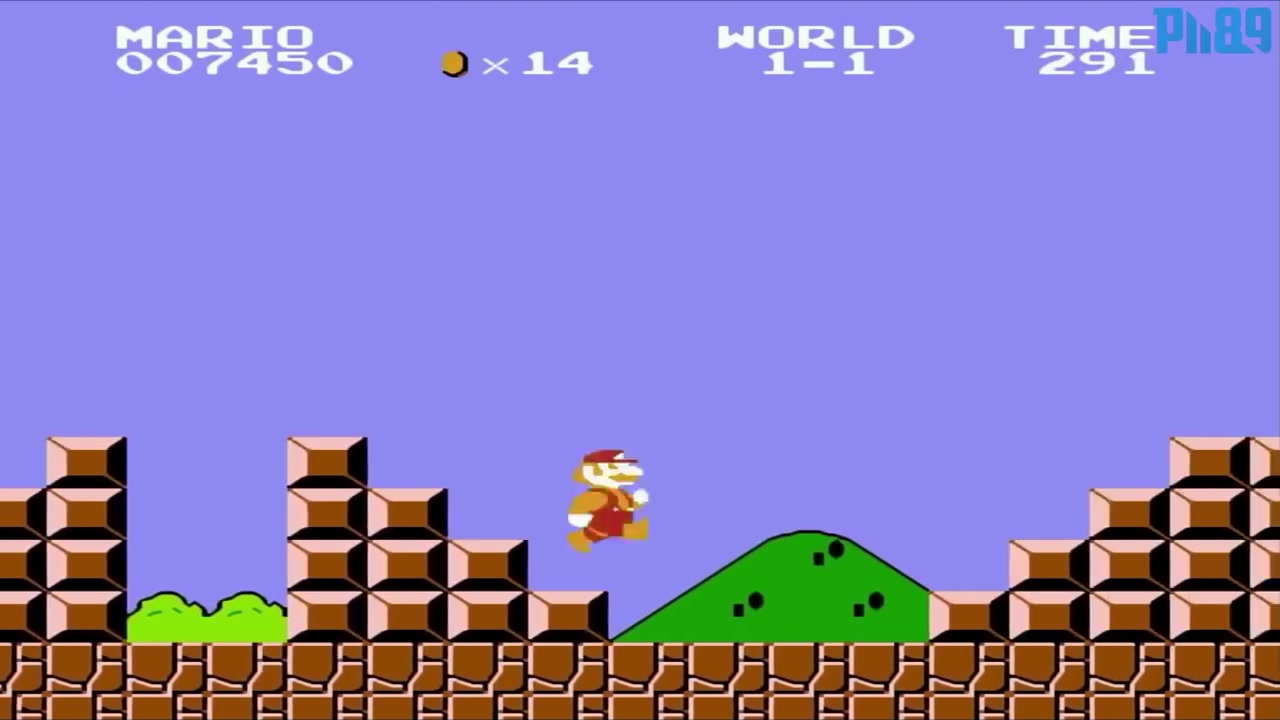mario: (564, 447, 657, 557)
